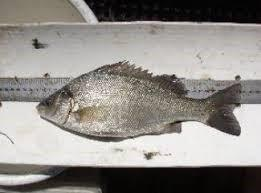Silver Perch: (22, 59, 252, 144)
